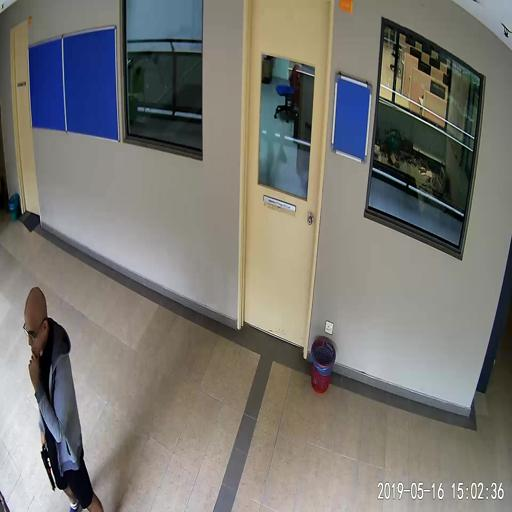pistol: (39, 444, 55, 491)
